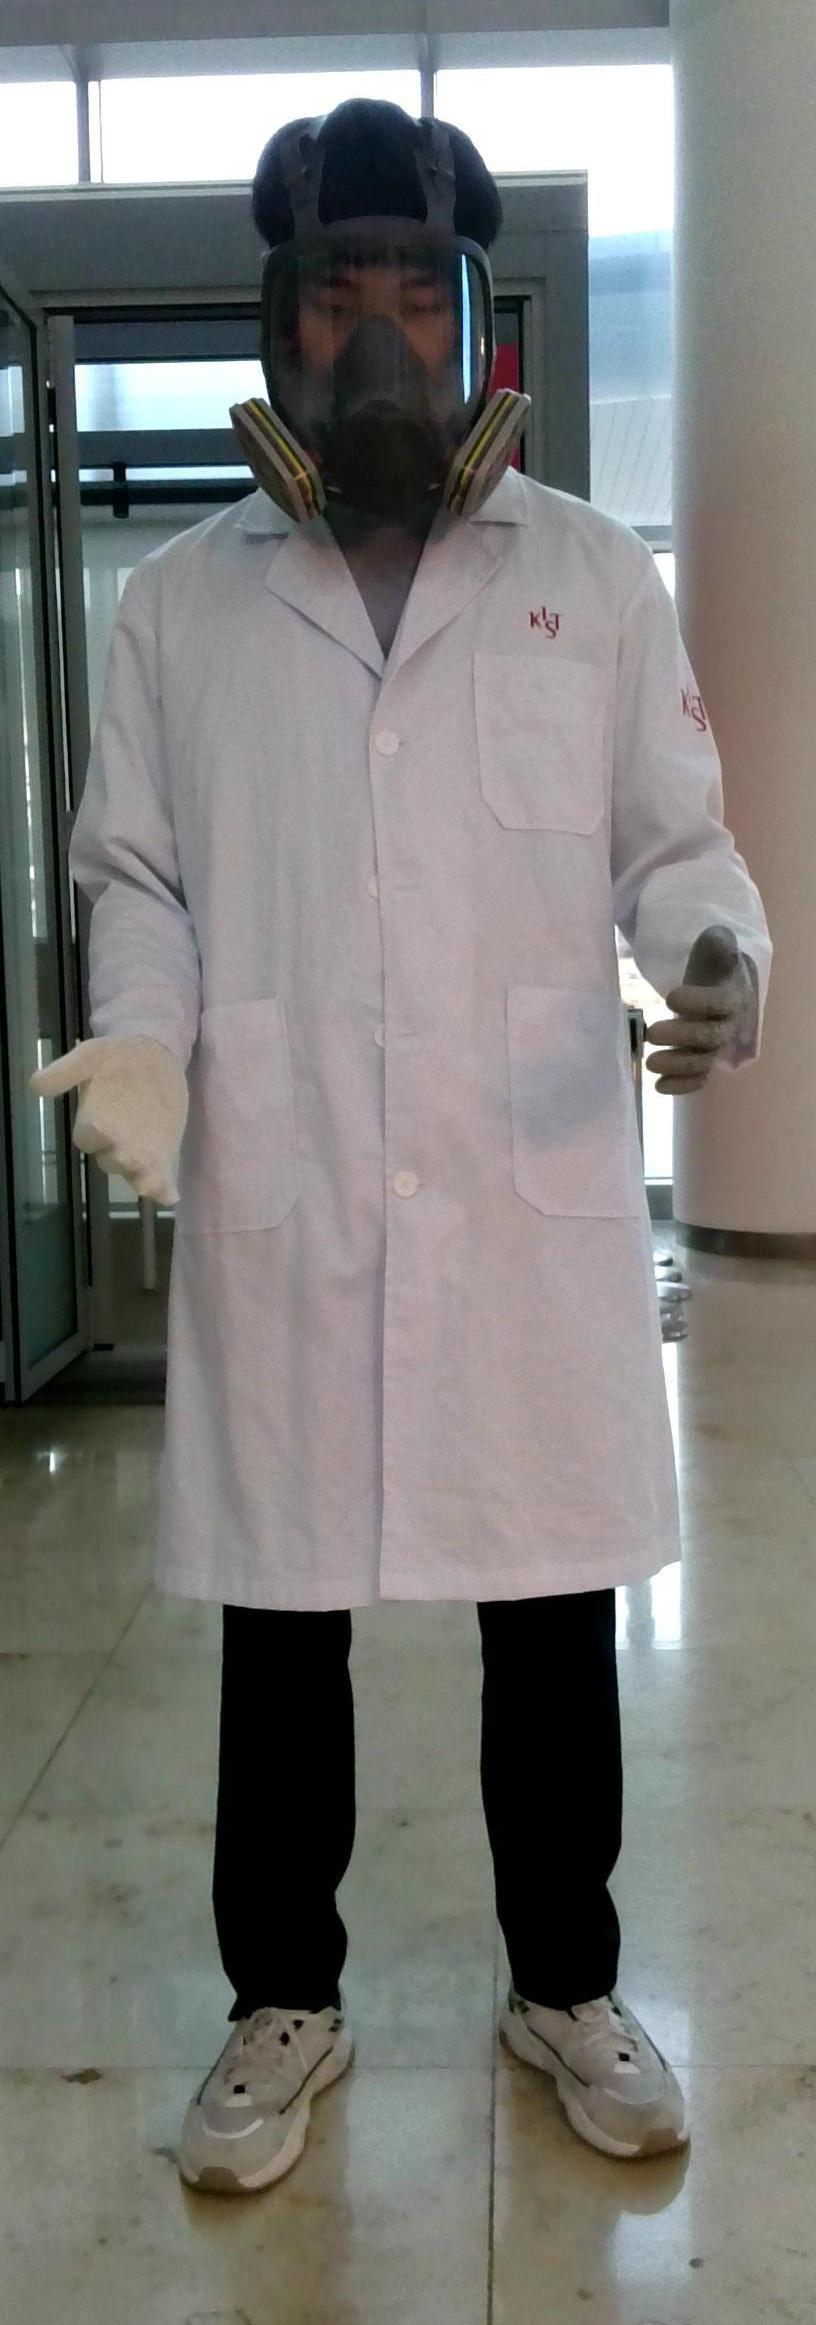lab_coat: (181, 526, 668, 1573)
